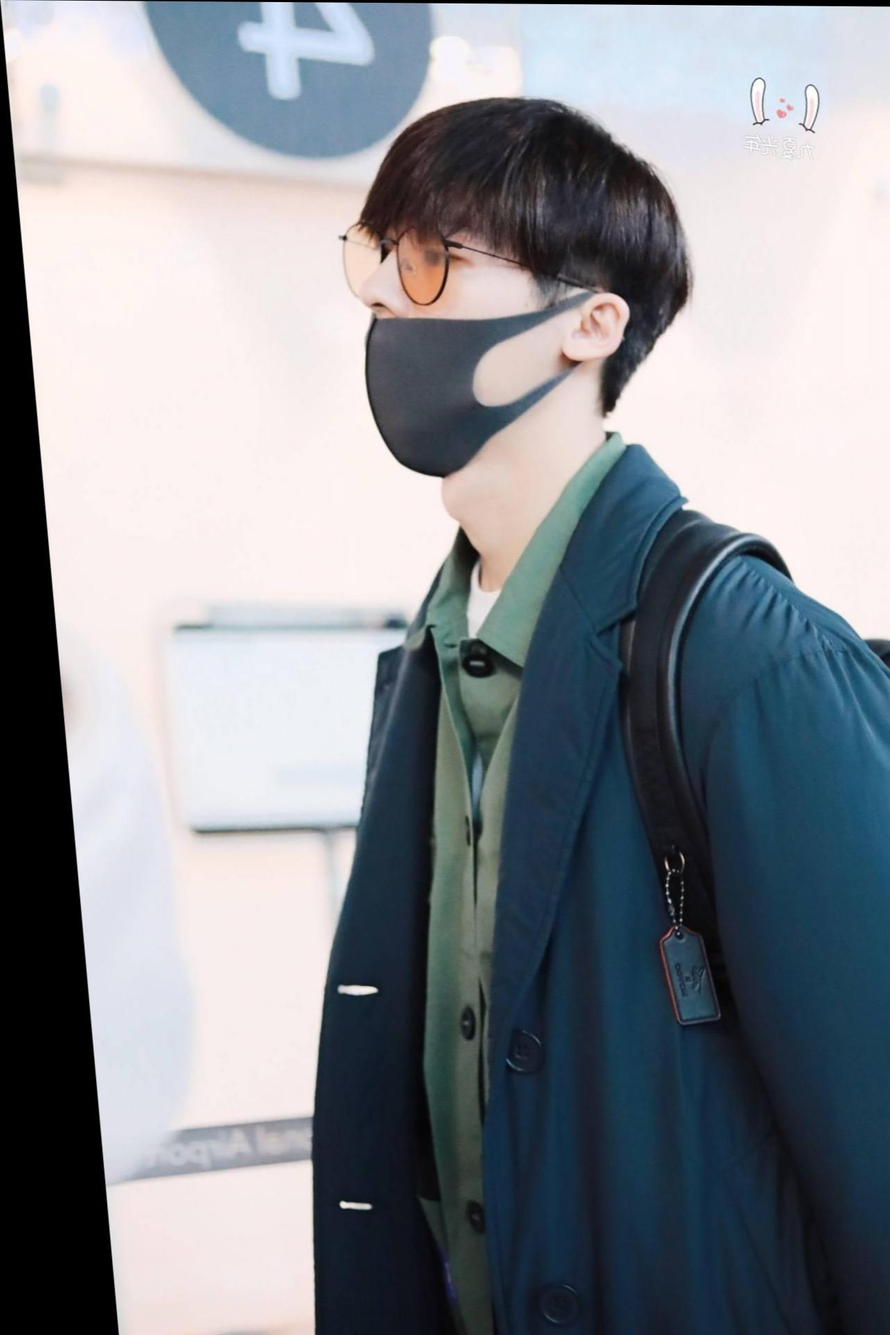WRONG: (342, 217, 529, 467)
